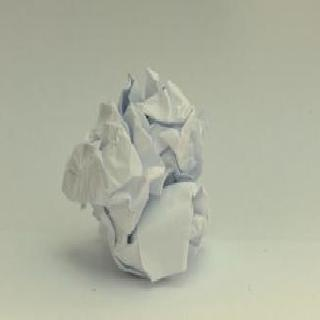8/可回收垃圾/纸: (61, 64, 208, 283)
